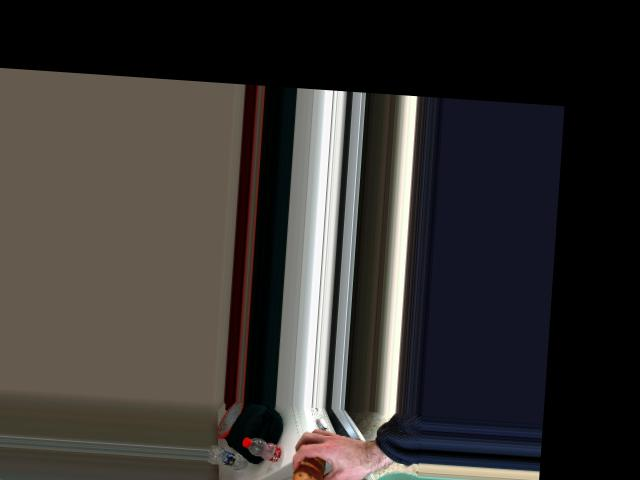sweet_potato: (297, 442, 342, 480)
